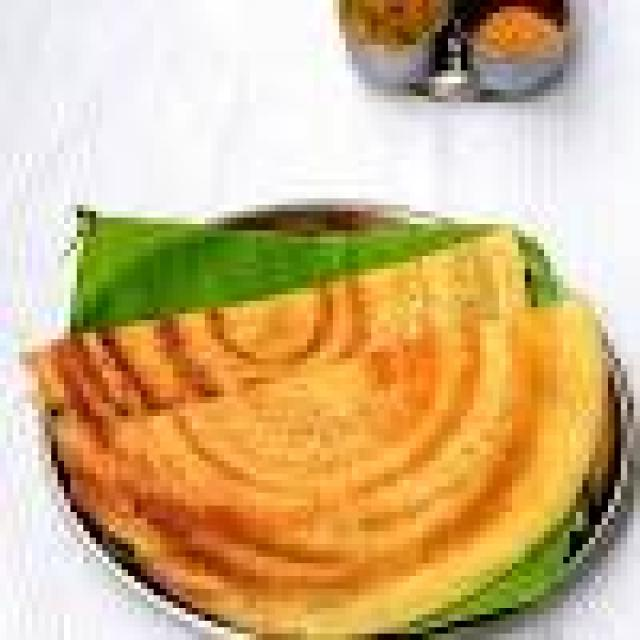dosa: (7, 224, 596, 538), (71, 352, 634, 634)
